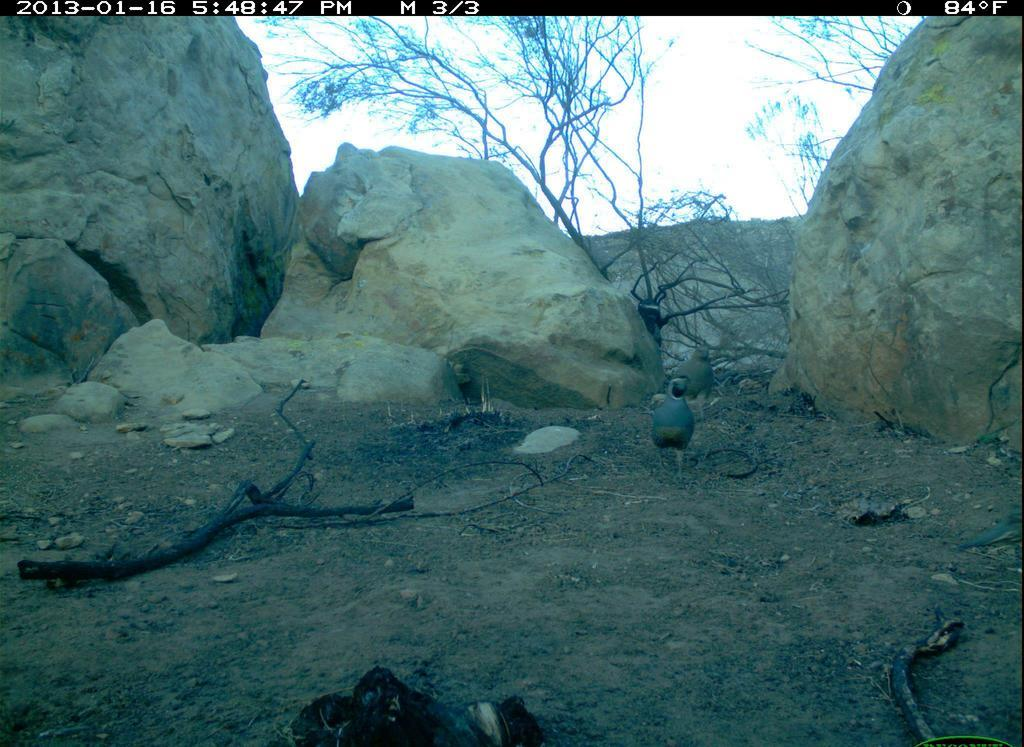bird: (644, 374, 708, 489), (677, 333, 719, 418)
